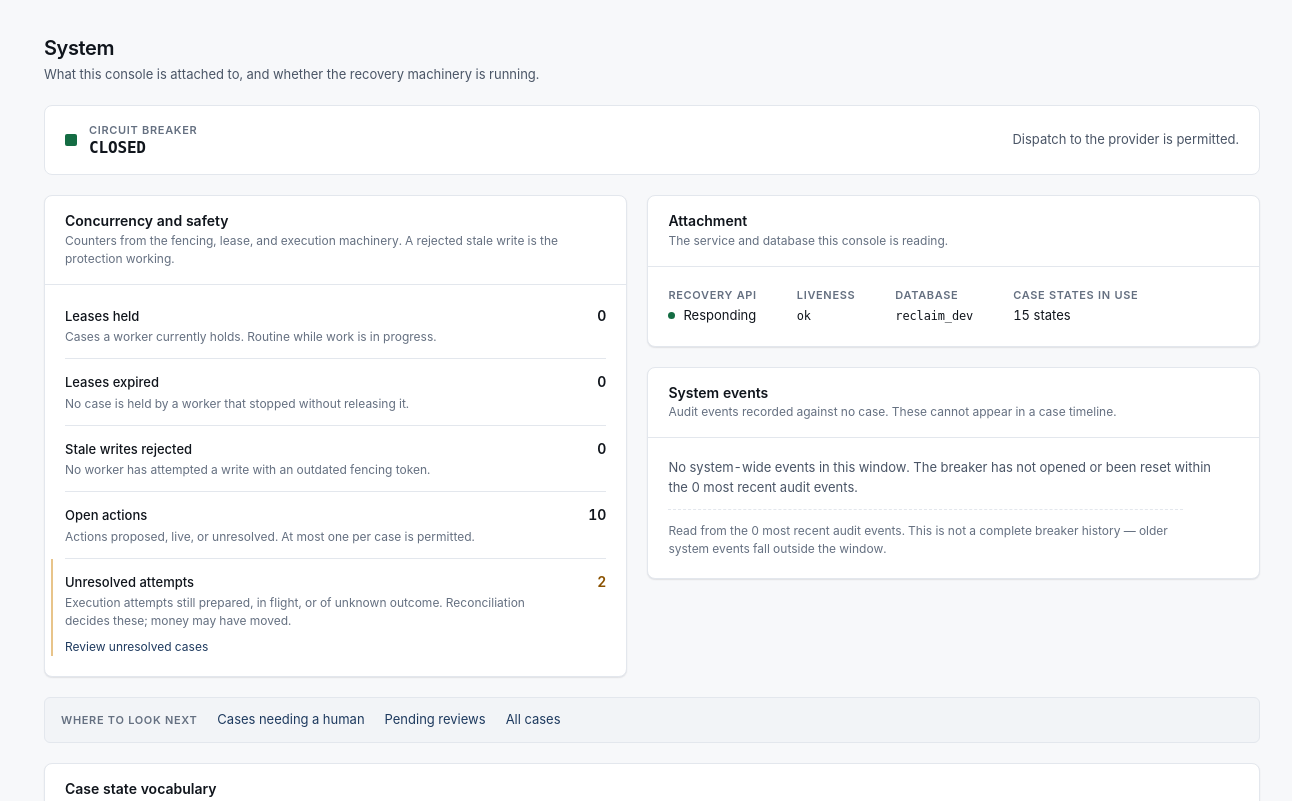
Scenario: navigation between surfaces › routes the System view into the queue with a filter the queue honours
Click the link "Cases needing a human" at (291, 720), box [217,710,364,730]
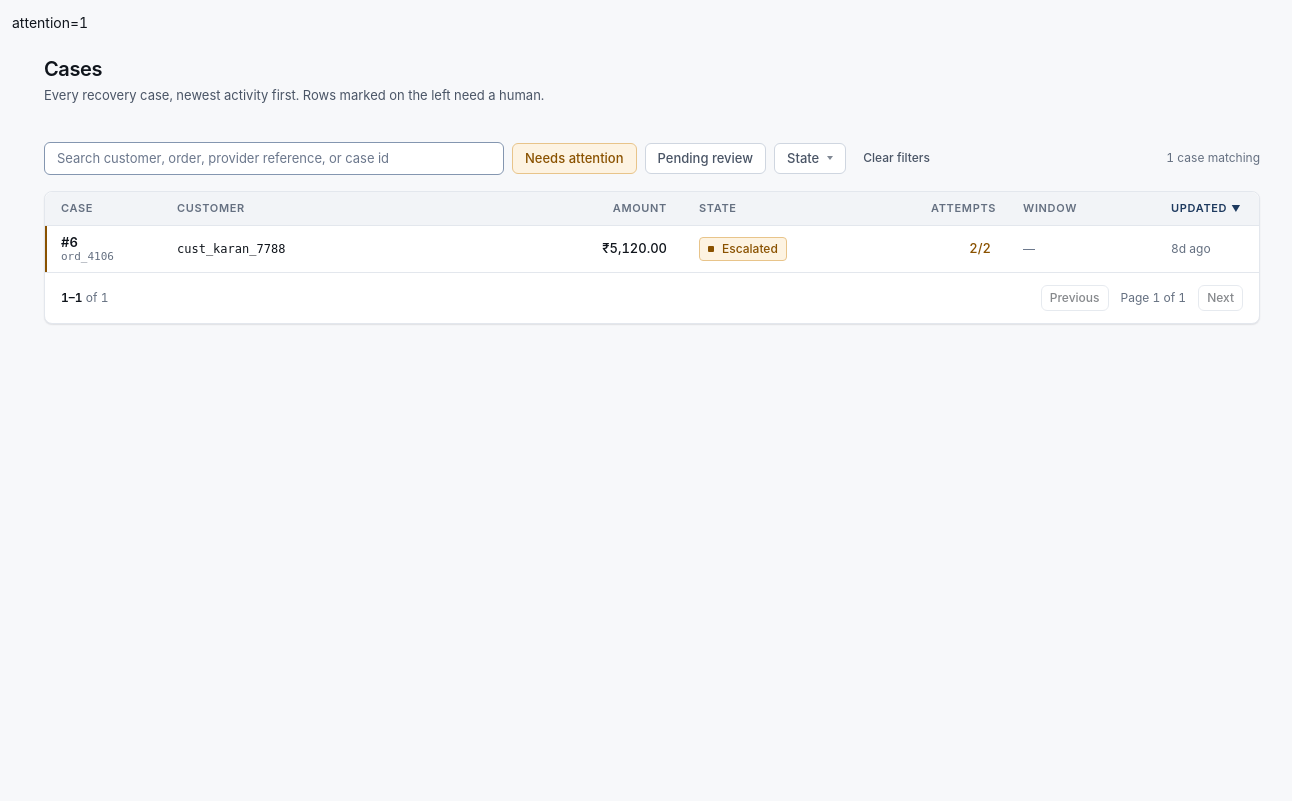
Check: the text "ord_4106" is shown, box [61,250,114,263]
